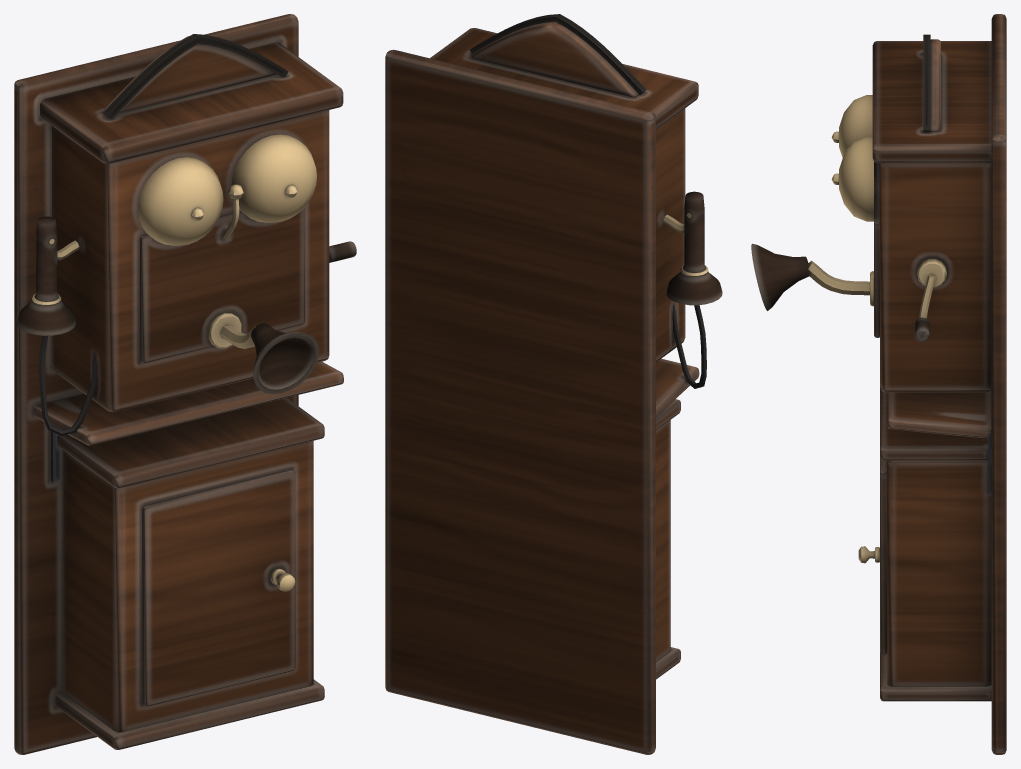
The model's file is WallTelephone.fbx.
3 renders of one model, left to right at view 1: azimuth 30°, elevation 25°; view 2: azimuth 150°, elevation 25°; view 3: azimuth 270°, elevation 25°, orthographic. The views are drawn at different scales.
Visible parts, largest first — view 1: WallTelephone; view 2: WallTelephone; view 3: WallTelephone.
Boxes of the visible parts, <box> form: WallTelephone: <box>14,14,356,754</box>; WallTelephone: <box>385,14,722,754</box>; WallTelephone: <box>751,14,1006,754</box>.
Bounding box in the file's own units: 140 × 292 × 103.
